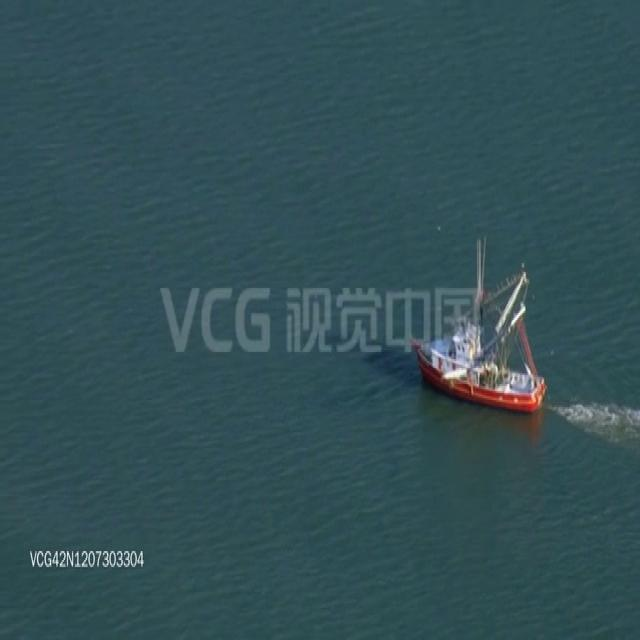houseboat: (414, 265, 541, 405)
